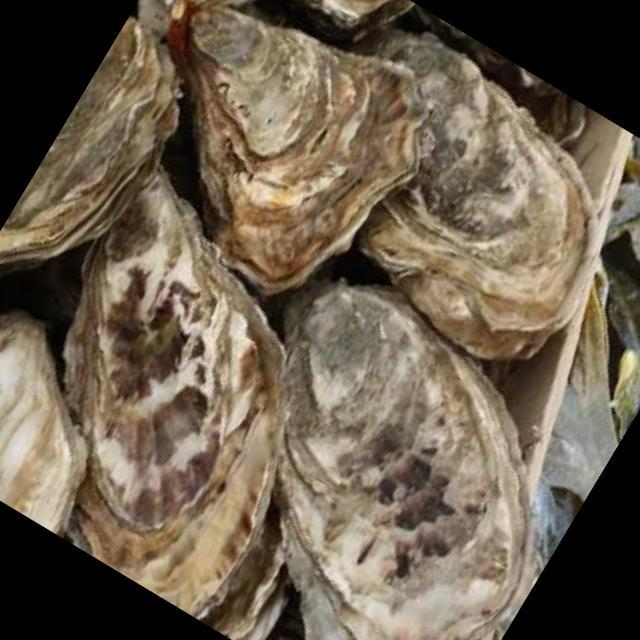Oyster- Indeterminate: (61, 161, 285, 616), (276, 281, 536, 640), (353, 29, 600, 359), (170, 8, 432, 294), (0, 16, 178, 279), (0, 308, 86, 540), (201, 500, 291, 640), (300, 0, 414, 37)
